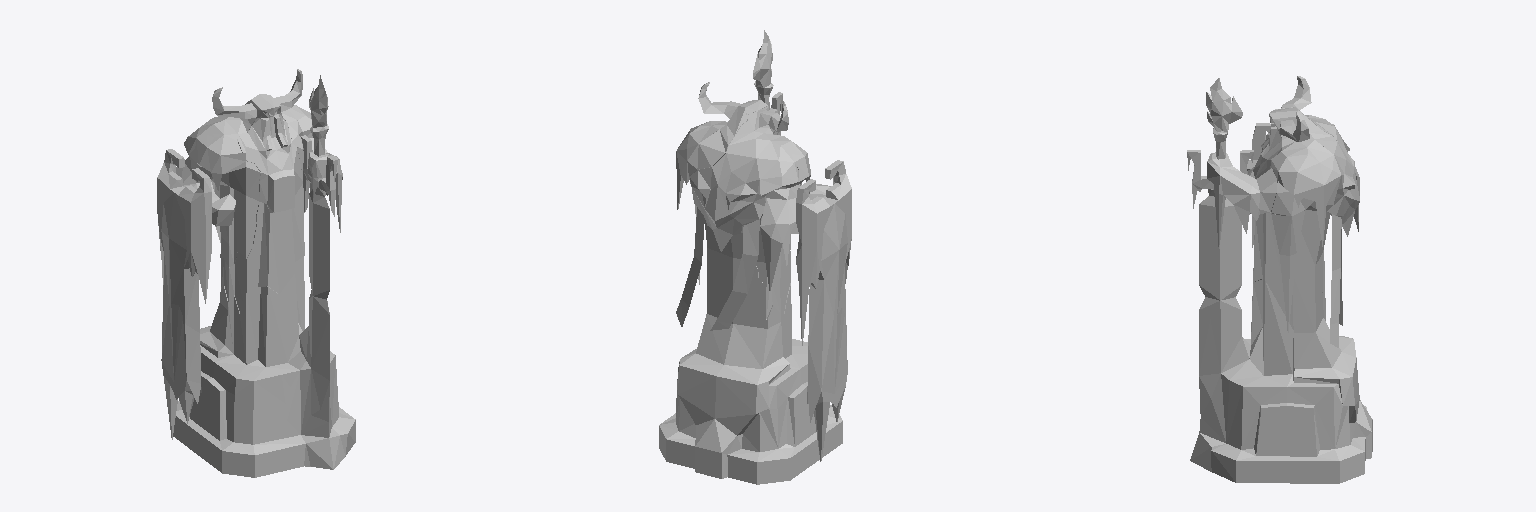
File: blue_tower.obj
3 renders of one model, left to right at view 1: azimuth 30°, elevation 25°; view 2: azimuth 150°, elevation 25°; view 3: azimuth 270°, elevation 25°, orthographic.
Parts seen in each view (by area): view 1: v_body_未命名.002; view 2: v_body_未命名.002; view 3: v_body_未命名.002.
Boxes of the visible parts, x1=… form: v_body_未命名.002: x1=157, y1=69, x2=355, y2=477; v_body_未命名.002: x1=659, y1=30, x2=851, y2=484; v_body_未命名.002: x1=1187, y1=76, x2=1372, y2=483.
Bounding box in the file's own units: 46.64 × 110 × 47.3.